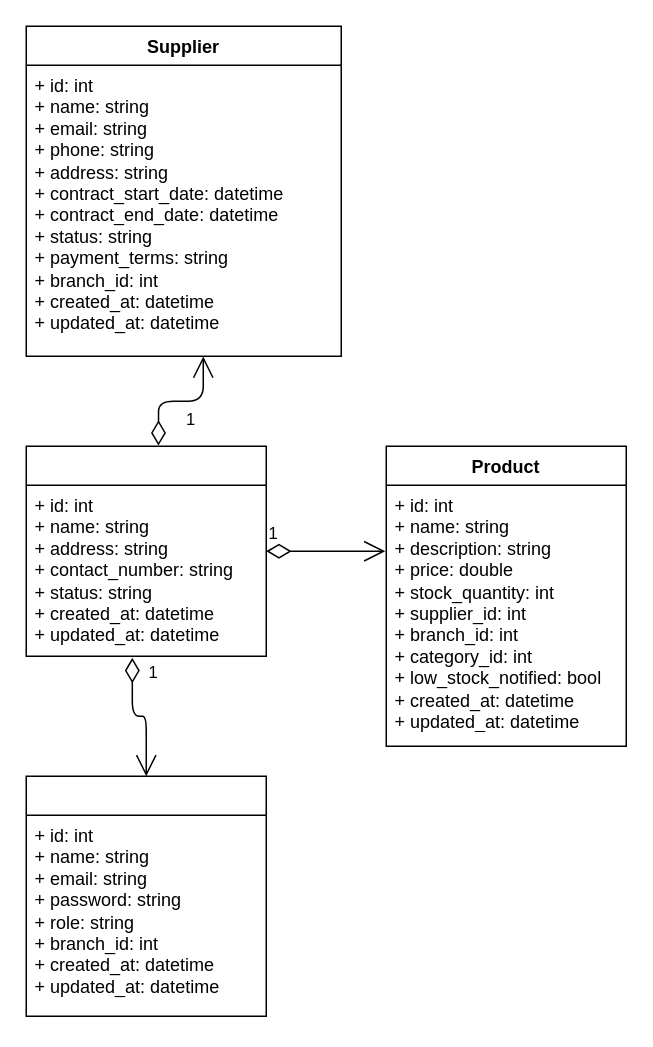
Image size: 653x1047. Some labels were removed from this diagram. The shapes that lost their labels are listed below. From the top down, each one's box as (x1, y1, x2, y2) in pixels, then its label:
(25, 445, 266, 656): Branch
(25, 775, 266, 1016): User
